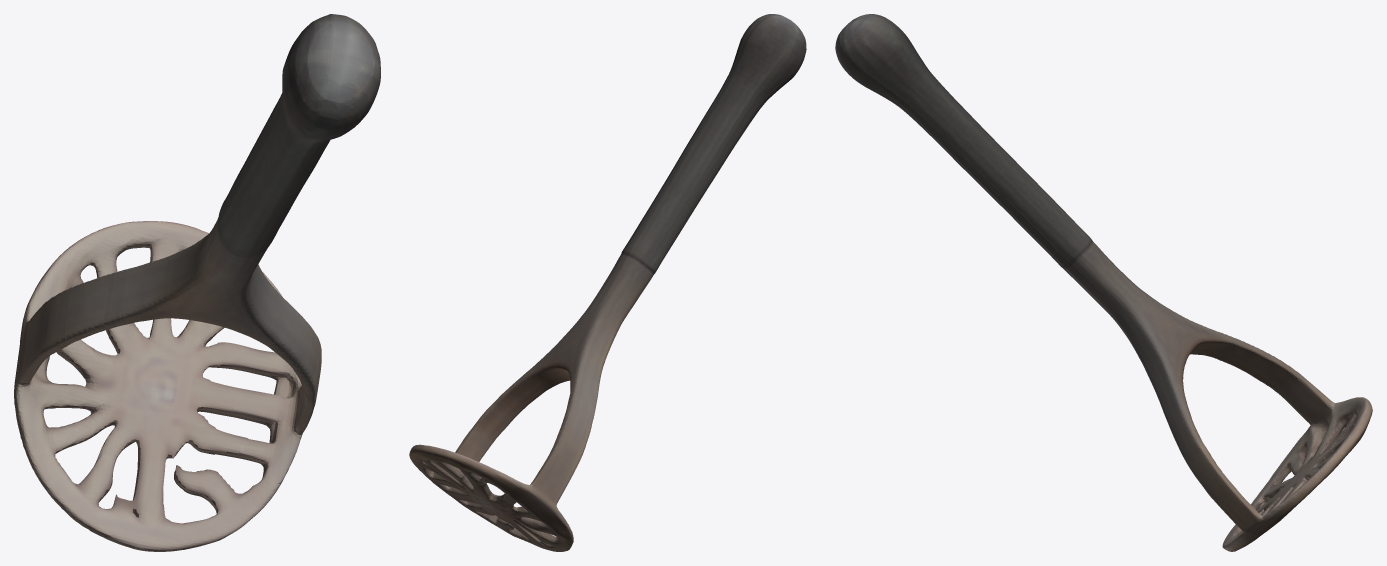
File: frame_0016_source_000016_object.glb
3 renders of one model, left to right at view 1: azimuth 30°, elevation 25°; view 2: azimuth 150°, elevation 25°; view 3: azimuth 270°, elevation 25°, orthographic. The views are drawn at different scales.
Visible parts, largest first — view 1: world; view 2: world; view 3: world.
Part boxes in pixels (x1,y1,x2,y2): world: (14,14,380,551); world: (409,14,806,551); world: (835,14,1372,551).
Bounding box in the file's own units: 0.0971 × 0.2074 × 0.2087.
